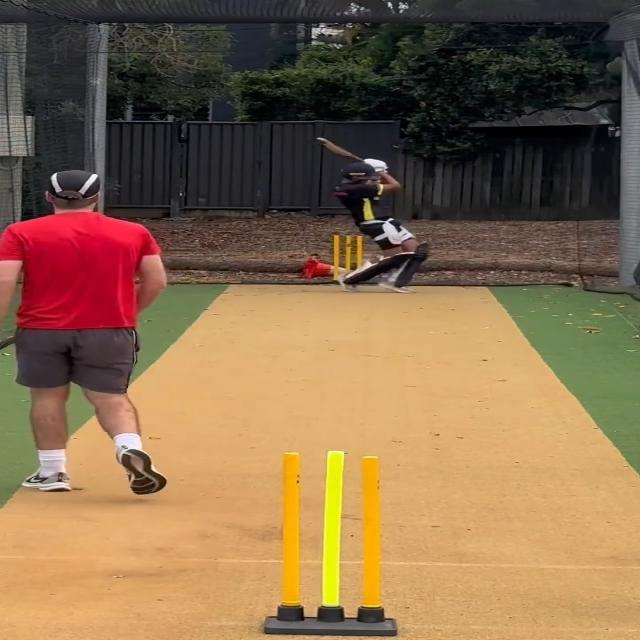stump: (262, 450, 398, 634), (330, 232, 366, 286)
